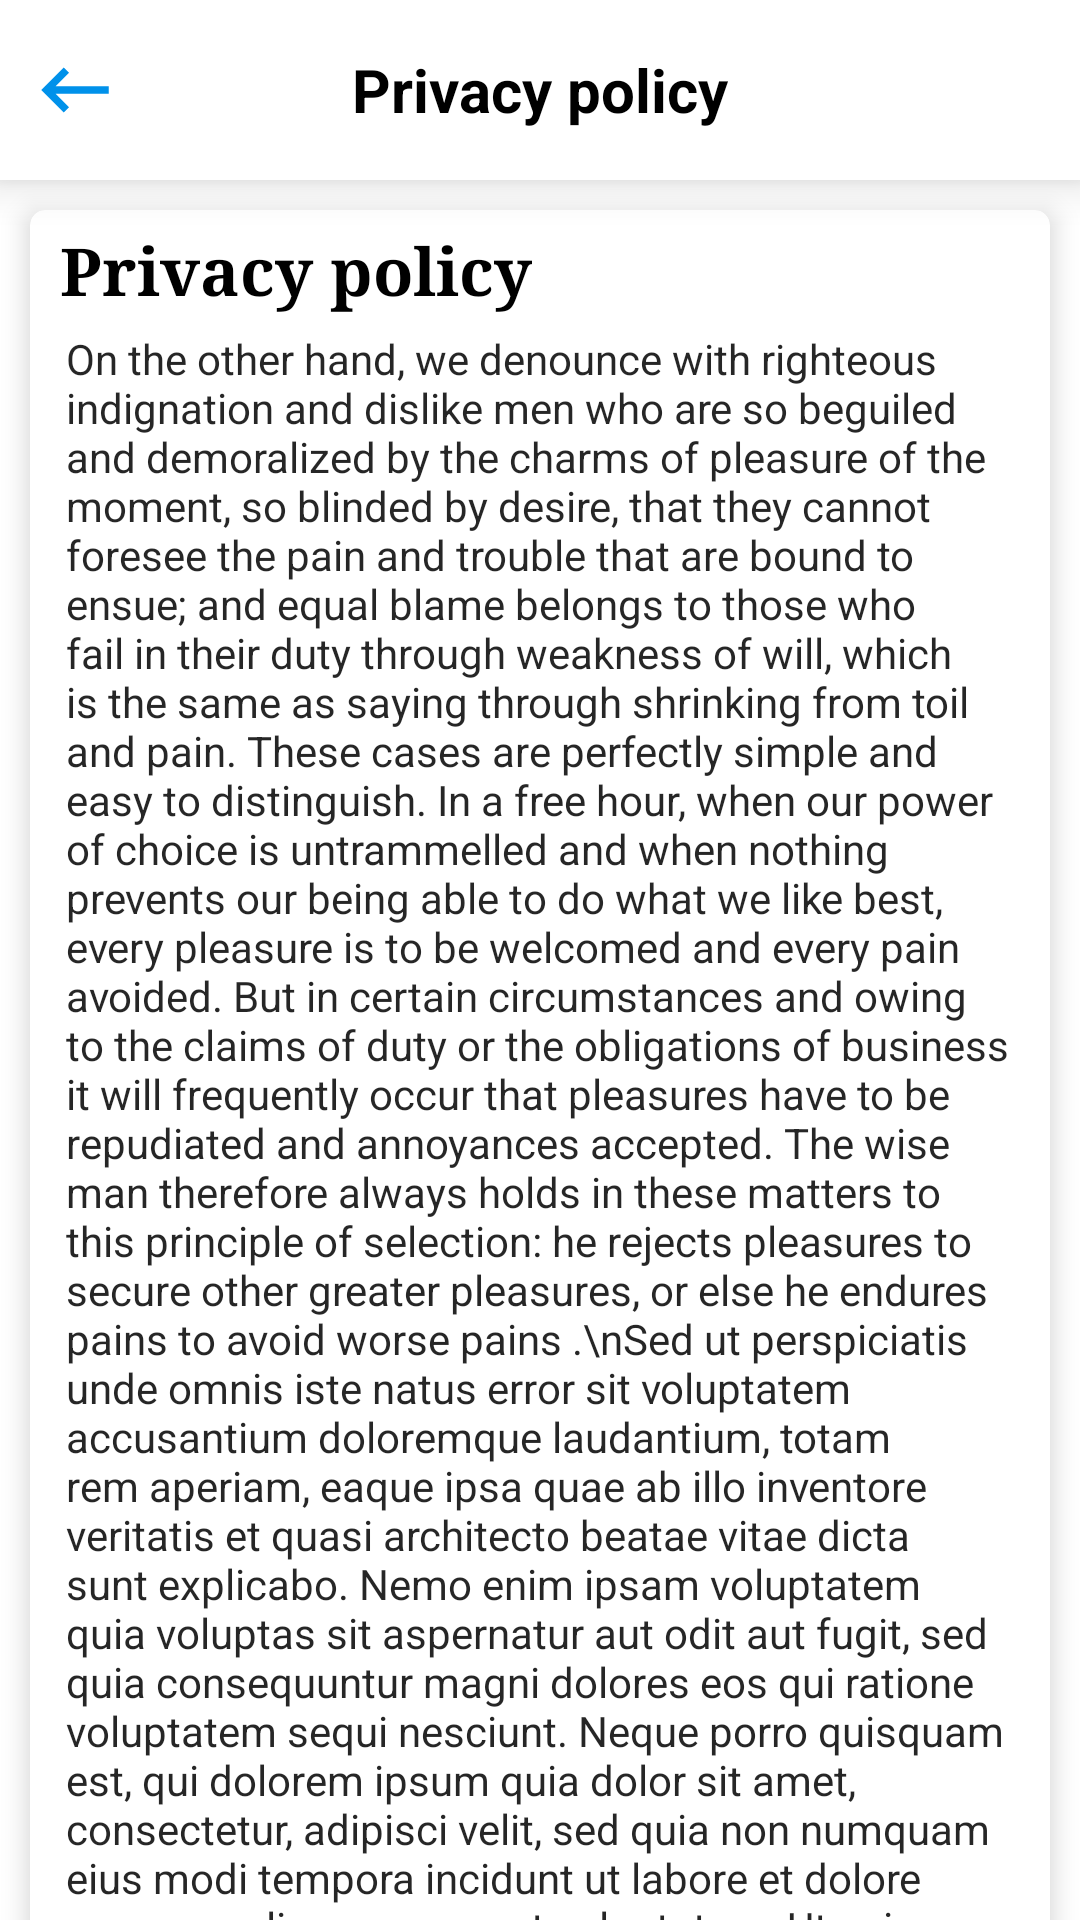

Screen size 1080 x 1920. Icon name, then its box in pixels as {"x1": x1, "y1": y1, "x2": x2, "y2": y2}:
keyboard backspace: {"x1": 41, "y1": 67, "x2": 109, "y2": 113}
